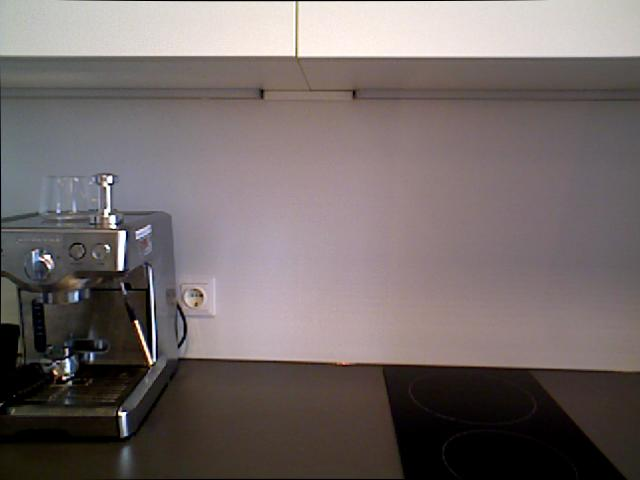handbag: (34, 171, 105, 220)
